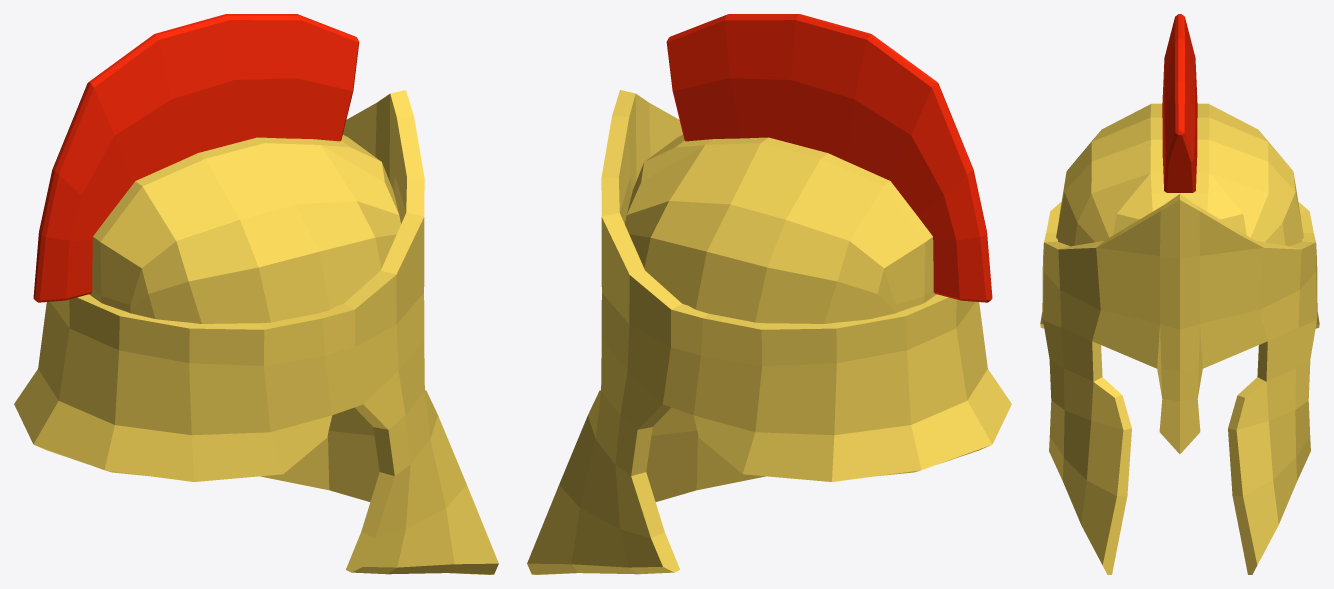
Rendered from Spartan_Helmet.fbx.
The picture shows the model from 3 angles, left to right: view 1: azimuth 30°, elevation 25°; view 2: azimuth 150°, elevation 25°; view 3: azimuth 270°, elevation 25°; orthographic projection. The views are drawn at different scales.
Parts seen in each view (by area): view 1: Spartan_Helmet; view 2: Spartan_Helmet; view 3: Spartan_Helmet.
Part boxes in pixels (x1=…): Spartan_Helmet: x1=14, y1=14, x2=498, y2=574; Spartan_Helmet: x1=527, y1=14, x2=1011, y2=574; Spartan_Helmet: x1=1040, y1=14, x2=1319, y2=574.
Bounding box in the file's own units: 36.87 × 49.24 × 27.53.
Materials: 1 (1 with a texture image).
